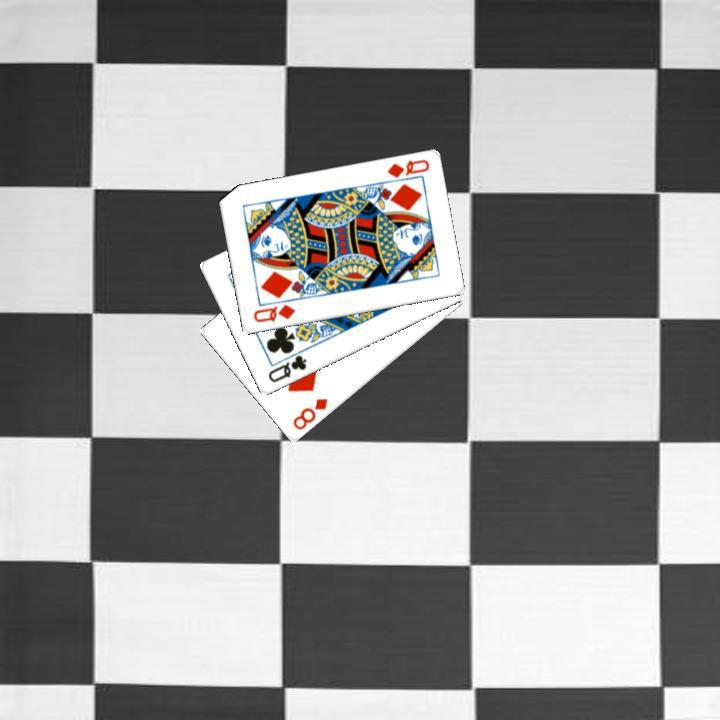8: (288, 394, 330, 433)
Q: (264, 351, 309, 385), (382, 155, 431, 180), (249, 300, 297, 325)
